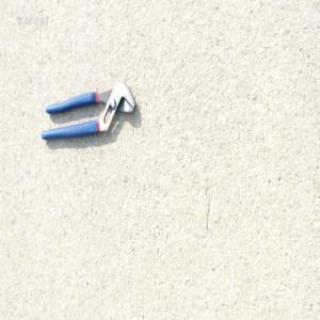Pliertrack_idkeyframe: (38, 78, 135, 141)
